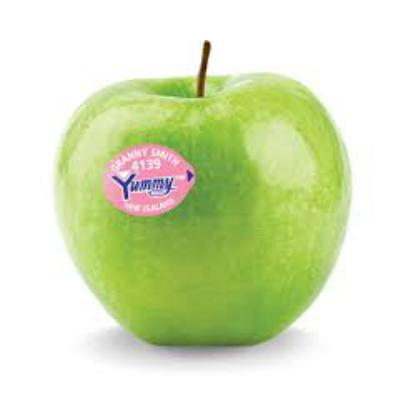apple: (61, 69, 345, 348)
